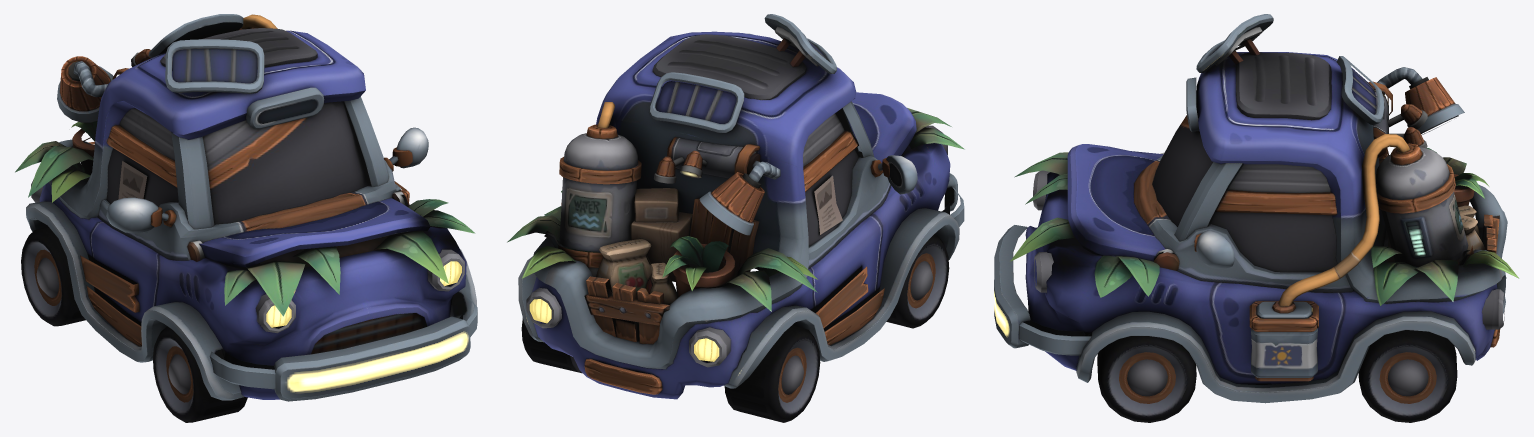
File: CarCartoon.gltf
The picture shows the model from 3 angles, left to right: view 1: azimuth 30°, elevation 25°; view 2: azimuth 150°, elevation 25°; view 3: azimuth 270°, elevation 25°; orthographic projection. The views are drawn at different scales.
Visible parts, largest first — view 1: CarCartoon_nohitbox, CarCartoon_Front_R_nohitbox, CarCartoon_Back_nohitbox; view 2: CarCartoon_nohitbox, CarCartoon_Back_nohitbox, CarCartoon_Front_R_nohitbox; view 3: CarCartoon_nohitbox, CarCartoon_Back_nohitbox, CarCartoon_Front_L_nohitbox.
Boxes of the visible parts, left/top/right/bottom form: CarCartoon_nohitbox: left=15, top=14, right=477, bottom=401; CarCartoon_Front_R_nohitbox: left=153, top=326, right=247, bottom=422; CarCartoon_Back_nohitbox: left=21, top=227, right=85, bottom=326; CarCartoon_nohitbox: left=507, top=14, right=964, bottom=399; CarCartoon_Back_nohitbox: left=521, top=318, right=820, bottom=422; CarCartoon_Front_R_nohitbox: left=886, top=234, right=949, bottom=328; CarCartoon_nohitbox: left=994, top=14, right=1519, bottom=403; CarCartoon_Back_nohitbox: left=1358, top=230, right=1457, bottom=422; CarCartoon_Front_L_nohitbox: left=1097, top=336, right=1196, bottom=422.
Size of what is drawn, in the model's own units: 1.1 by 1.07 by 1.6.
Materials: 1 (1 with a texture image).
